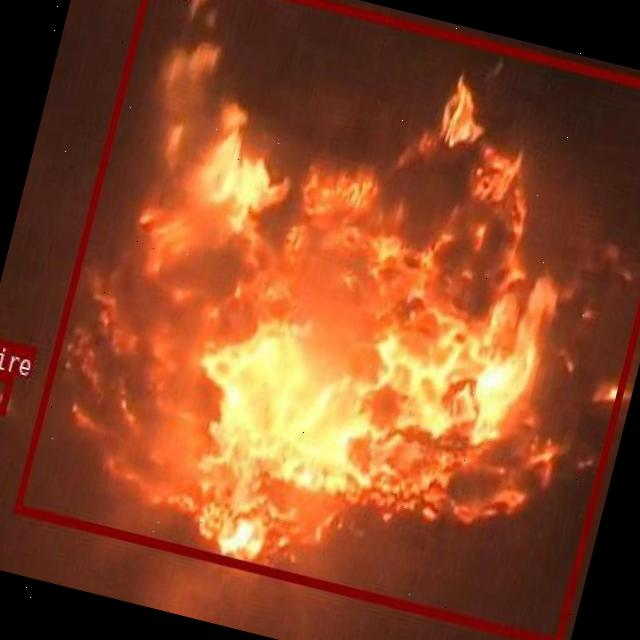fire: (13, 0, 640, 640), (0, 364, 12, 412)
